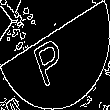P_NW: (34, 24, 76, 86)
